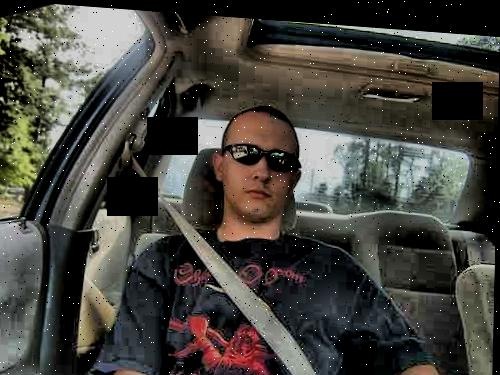seatbelt: (108, 140, 330, 361)
